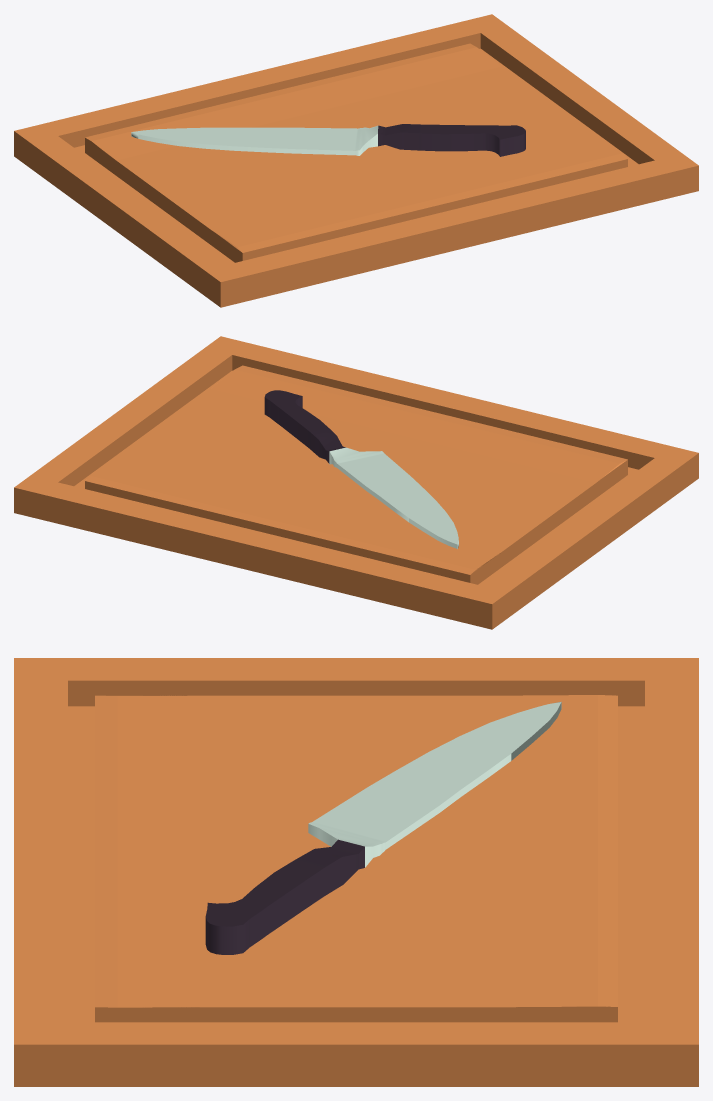
Rendered from cutting.gltf.
3 views of the same model, one above another, from view 1: azimuth 30°, elevation 25°; view 2: azimuth 150°, elevation 25°; view 3: azimuth 270°, elevation 25° (orthographic). The views are drawn at different scales.
Visible parts, largest first — view 1: Cube, Cube.001, Cube.002; view 2: Cube, Cube.001, Cube.002; view 3: Cube, Cube.001, Cube.002.
Part boxes in pixels (x1,y1,x2,y2): Cube: (14,14,698,307); Cube.001: (131,125,378,155); Cube.002: (378,124,525,156); Cube: (14,336,698,629); Cube.001: (329,447,458,548); Cube.002: (264,390,345,463); Cube: (14,658,698,1086); Cube.001: (308,701,561,867); Cube.002: (205,839,364,954).
Bounding box in the file's own units: 2.75 × 0.2551 × 2.06.
Materials: 1 (1 with a texture image).
